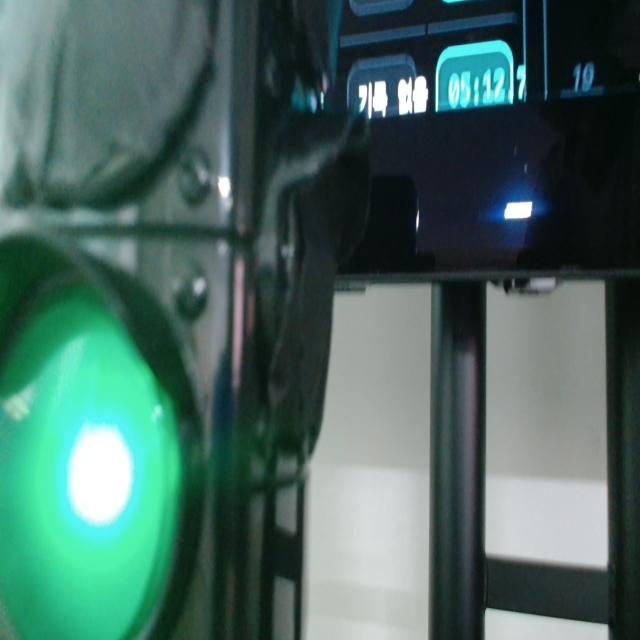green_light: (0, 288, 182, 639), (68, 425, 133, 526)
